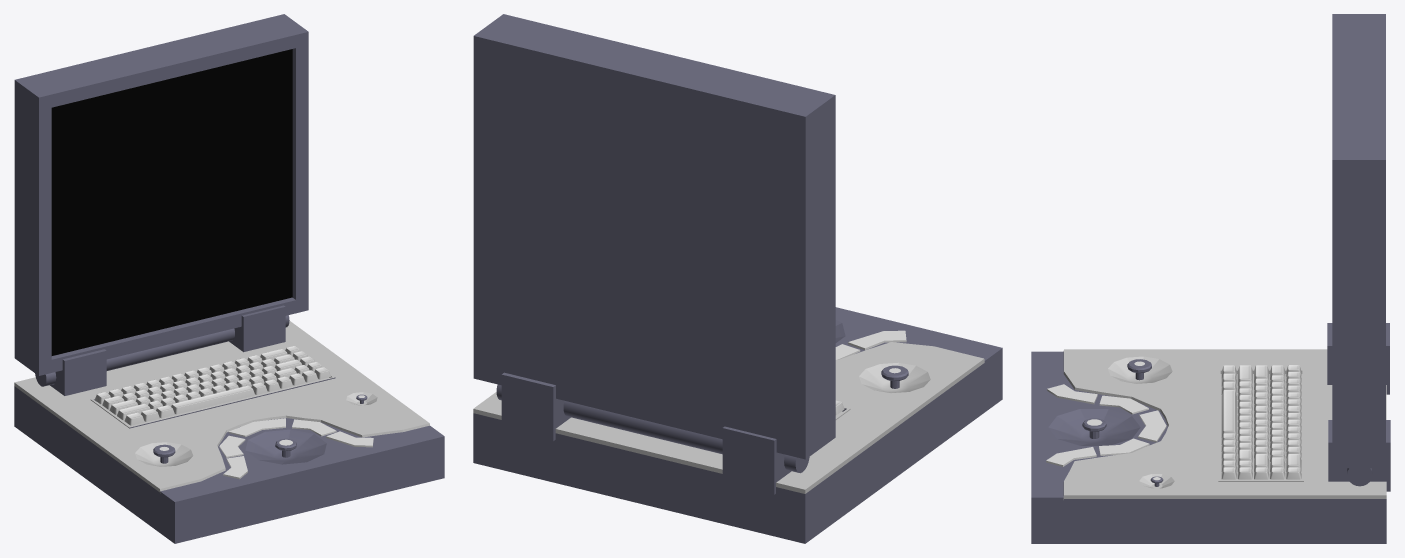
The model's file is ultrasonido.fbx.
3 renders of one model, left to right at view 1: azimuth 30°, elevation 25°; view 2: azimuth 150°, elevation 25°; view 3: azimuth 270°, elevation 25°, orthographic. The views are drawn at different scales.
Visible parts, largest first — view 1: polySurface44; view 2: polySurface44; view 3: polySurface44.
Part boxes in pixels (bbox=[...]): polySurface44: bbox=[14, 14, 444, 543]; polySurface44: bbox=[473, 14, 1002, 543]; polySurface44: bbox=[1031, 14, 1390, 543].
Size of the model in its own units: 6.41 by 7.88 by 6.68.
